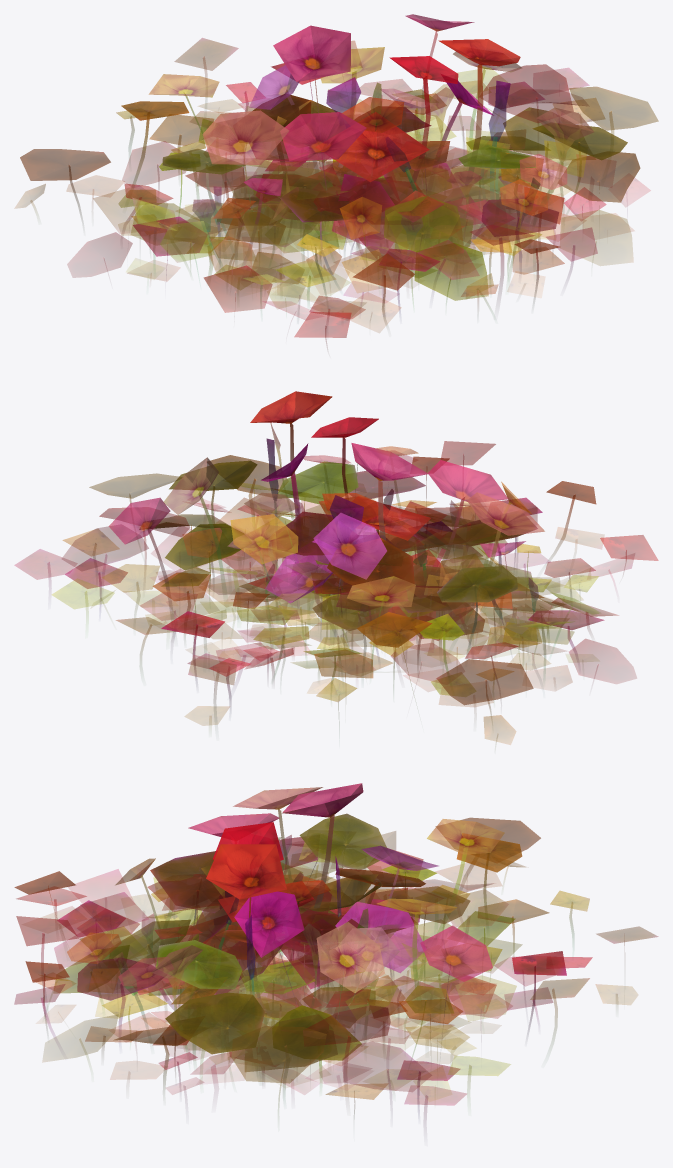
Rendered from uchkajuia_tier_2.gltf.
3 views of the same model, one above another, from view 1: azimuth 30°, elevation 25°; view 2: azimuth 150°, elevation 25°; view 3: azimuth 270°, elevation 25° (orthographic). The views are drawn at different scales.
Visible parts, largest first — view 1: SM_uchkajuia_VarH, SM_uchkajuia_VarD, SM_uchkajuia_VarG, SM_uchkajuia_VarB, SM_uchkajuia_VarE, SM_uchkajuia_VarC, SM_uchkajuia_VarF, SM_uchkajuia_VarA; view 2: SM_uchkajuia_VarD, SM_uchkajuia_VarH, SM_uchkajuia_VarG, SM_uchkajuia_VarB, SM_uchkajuia_VarC, SM_uchkajuia_VarF, SM_uchkajuia_VarE, SM_uchkajuia_VarA; view 3: SM_uchkajuia_VarH, SM_uchkajuia_VarB, SM_uchkajuia_VarD, SM_uchkajuia_VarG, SM_uchkajuia_VarE, SM_uchkajuia_VarC, SM_uchkajuia_VarF, SM_uchkajuia_VarA.
Boxes of the visible parts, x1=… form: SM_uchkajuia_VarH: x1=122, y1=39, x2=658, y2=332; SM_uchkajuia_VarD: x1=15, y1=89, x2=640, y2=320; SM_uchkajuia_VarG: x1=67, y1=14, x2=573, y2=319; SM_uchkajuia_VarB: x1=133, y1=63, x2=627, y2=347; SM_uchkajuia_VarE: x1=264, y1=100, x2=521, y2=295; SM_uchkajuia_VarC: x1=118, y1=136, x2=564, y2=319; SM_uchkajuia_VarF: x1=67, y1=81, x2=548, y2=279; SM_uchkajuia_VarA: x1=249, y1=175, x2=473, y2=278; SM_uchkajuia_VarD: x1=62, y1=455, x2=598, y2=744; SM_uchkajuia_VarH: x1=14, y1=391, x2=603, y2=682; SM_uchkajuia_VarG: x1=52, y1=417, x2=634, y2=715; SM_uchkajuia_VarB: x1=65, y1=456, x2=658, y2=708; SM_uchkajuia_VarC: x1=165, y1=513, x2=618, y2=696; SM_uchkajuia_VarF: x1=157, y1=443, x2=636, y2=683; SM_uchkajuia_VarE: x1=231, y1=496, x2=521, y2=650; SM_uchkajuia_VarA: x1=239, y1=532, x2=532, y2=622; SM_uchkajuia_VarH: x1=14, y1=813, x2=589, y2=1120; SM_uchkajuia_VarB: x1=16, y1=837, x2=592, y2=1110; SM_uchkajuia_VarD: x1=14, y1=813, x2=637, y2=1116; SM_uchkajuia_VarG: x1=16, y1=783, x2=658, y2=1089; SM_uchkajuia_VarE: x1=137, y1=874, x2=425, y2=1051; SM_uchkajuia_VarC: x1=53, y1=889, x2=496, y2=1081; SM_uchkajuia_VarF: x1=188, y1=835, x2=399, y2=1083; SM_uchkajuia_VarA: x1=149, y1=955, x2=375, y2=1027.
Size of what is drawn, in the model's own units: 0.5563 by 0.1995 by 0.5159.
1 material, 1 textured.
